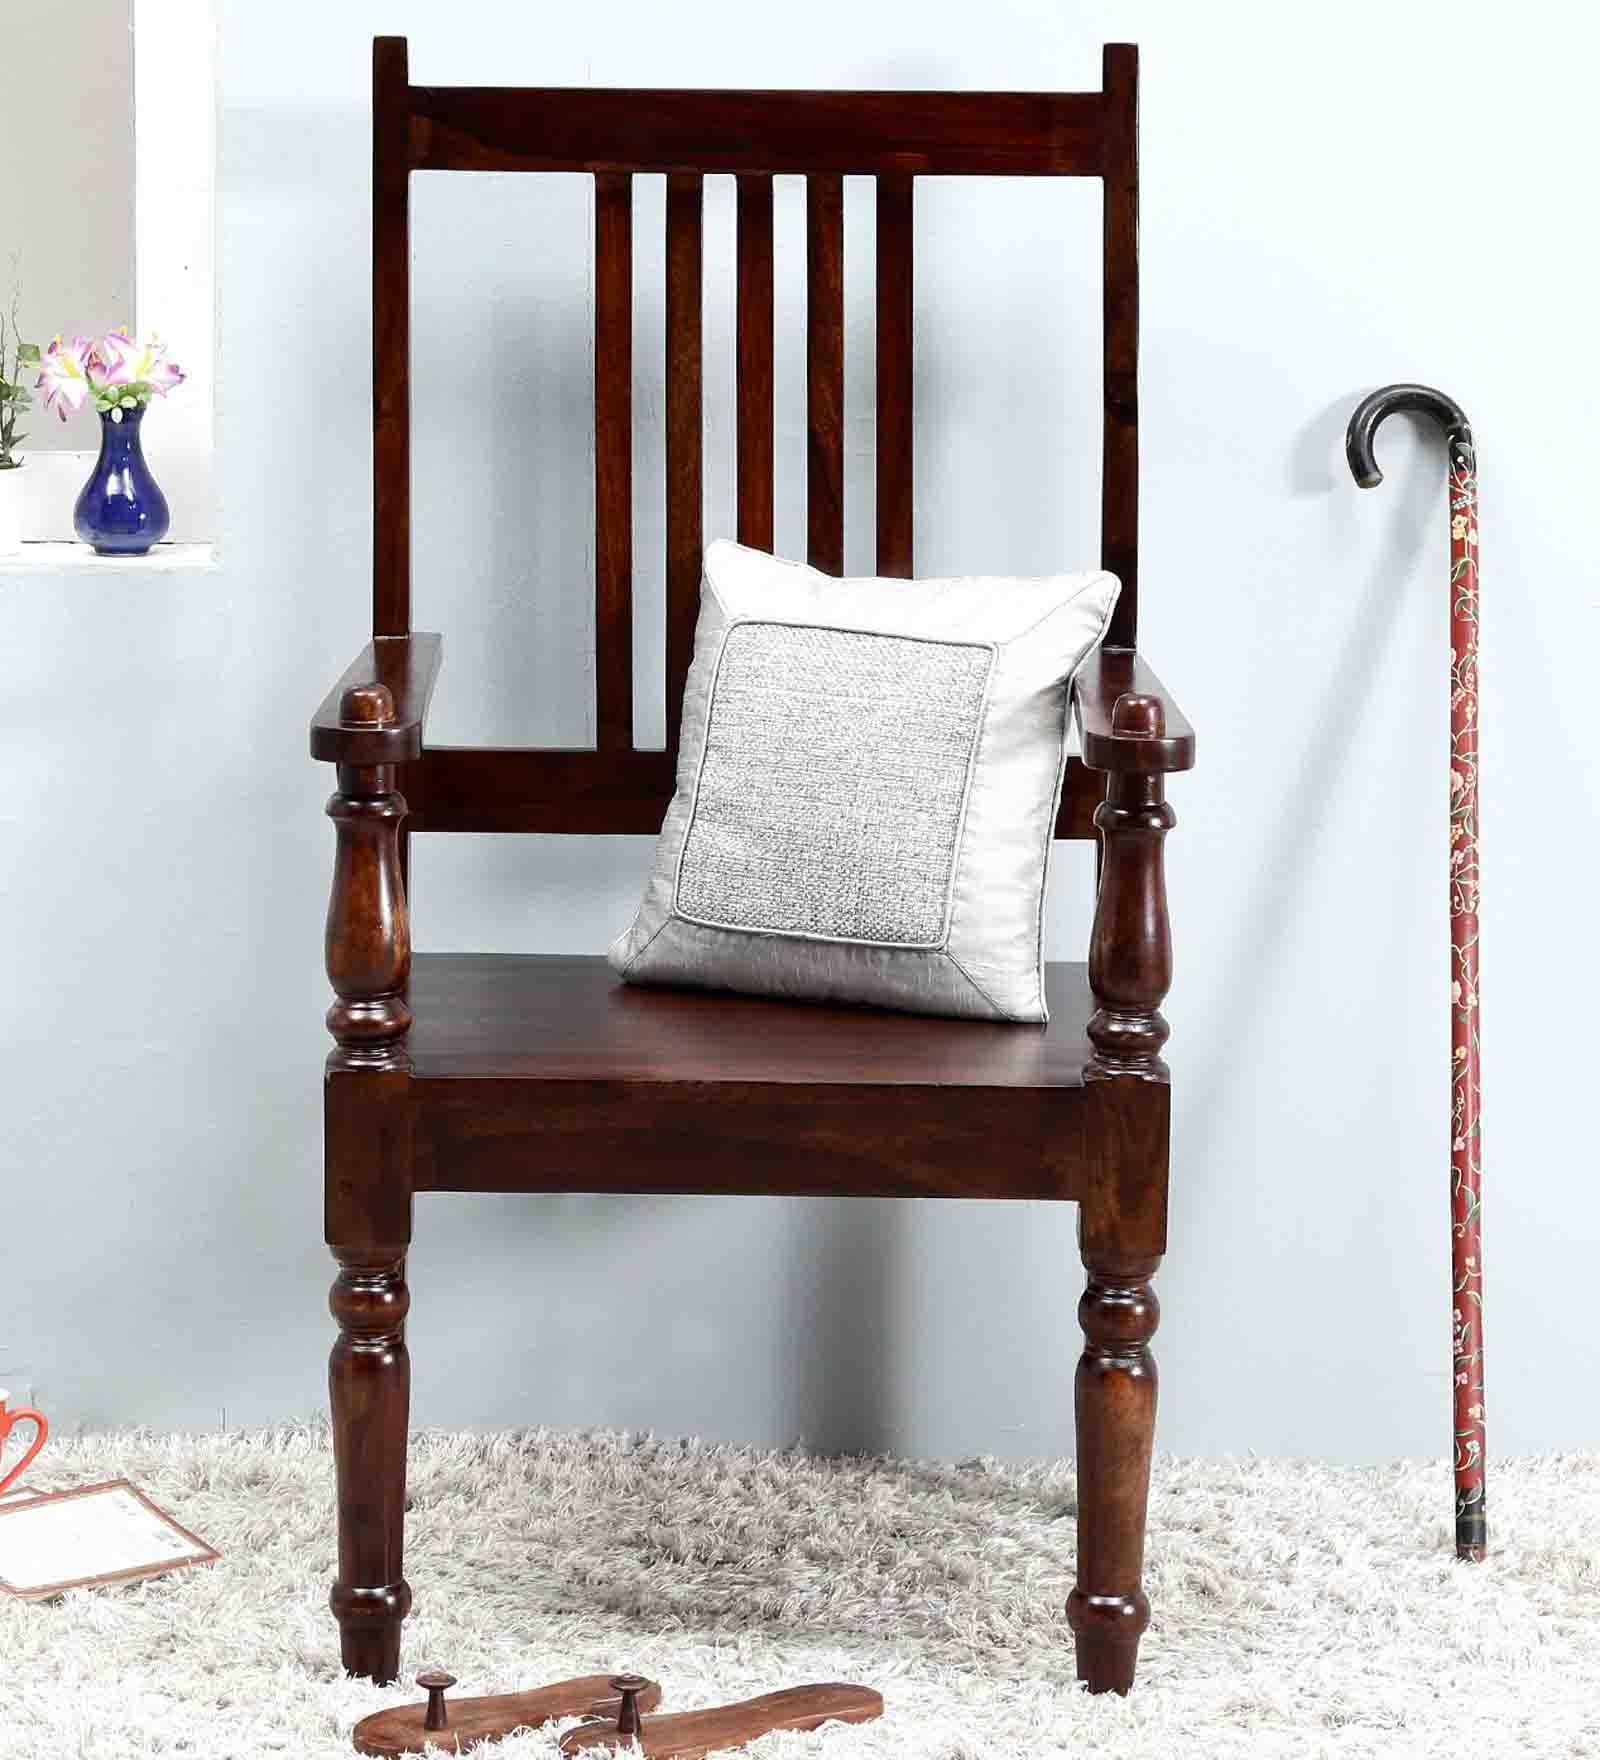Raylestone Arm Chair in Provincial Teak Finish by Amberville: (299, 29, 1252, 1679)
